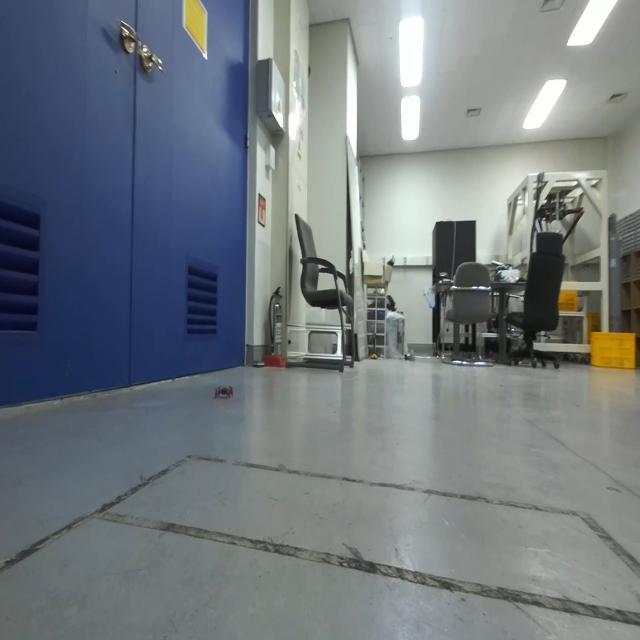crazyflie: (210, 379, 237, 406)
